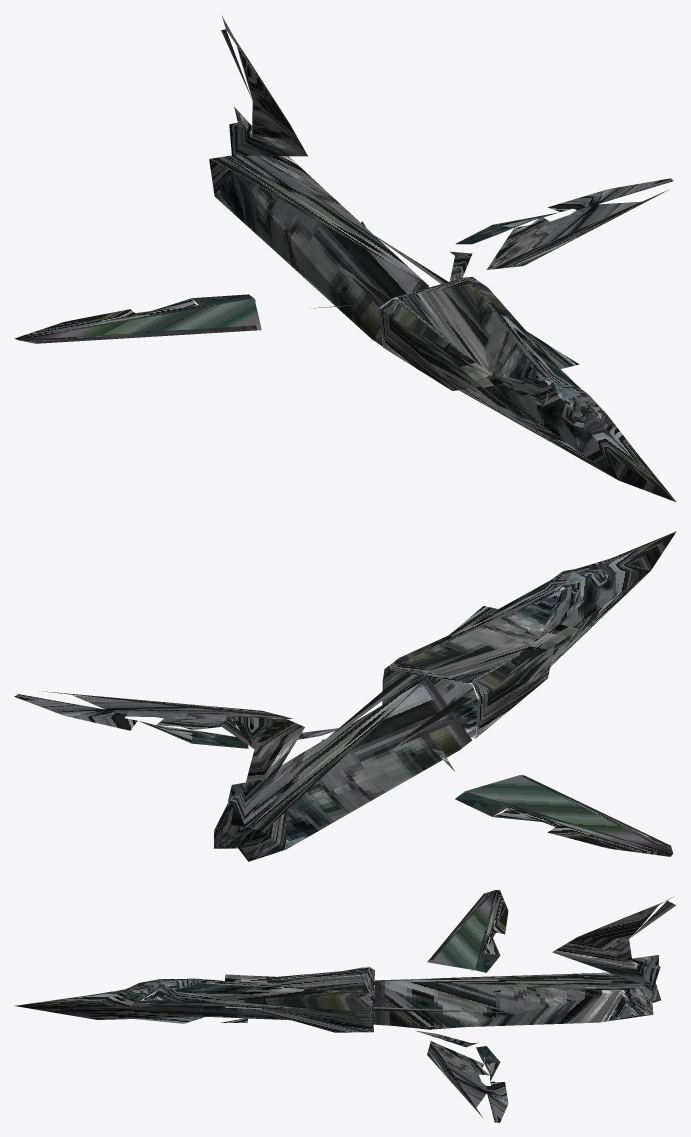
3 views of the same model, one above another, from view 1: azimuth 30°, elevation 25°; view 2: azimuth 150°, elevation 25°; view 3: azimuth 270°, elevation 25° (orthographic). The views are drawn at different scales.
Visible parts, largest first — view 1: Object_2; view 2: Object_2; view 3: Object_2.
Part boxes in pixels (x1=…): Object_2: x1=14, y1=15, x2=676, y2=502; Object_2: x1=14, y1=531, x2=676, y2=861; Object_2: x1=14, y1=890, x2=676, y2=1122.
Bounding box in the file's own units: 1192 × 307 × 1434.
1 material, 1 textured.
